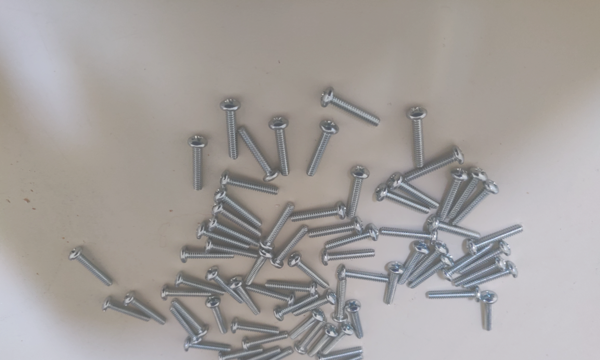longscrew: (237, 128, 281, 179), (324, 90, 382, 127), (458, 241, 512, 277), (404, 151, 468, 181), (440, 247, 493, 283), (449, 170, 487, 219), (464, 225, 524, 256), (456, 183, 497, 228), (390, 174, 440, 210), (68, 248, 111, 289), (404, 245, 447, 285), (218, 93, 243, 161), (187, 127, 212, 195), (377, 187, 431, 218), (212, 203, 262, 236), (211, 191, 260, 224), (310, 119, 336, 180), (123, 293, 169, 327), (268, 112, 292, 176), (220, 173, 281, 198), (395, 240, 428, 286), (290, 253, 329, 291), (262, 202, 294, 248), (454, 260, 506, 288), (407, 258, 452, 290), (206, 268, 243, 305), (274, 227, 304, 272), (175, 273, 225, 300), (287, 200, 345, 223), (436, 168, 462, 219), (168, 306, 201, 346), (305, 219, 362, 242), (197, 224, 249, 249), (208, 216, 261, 240), (173, 302, 209, 337), (321, 227, 378, 249), (231, 277, 262, 317), (467, 264, 518, 288), (427, 217, 482, 238), (275, 293, 321, 318), (347, 165, 368, 219), (381, 262, 406, 307), (204, 241, 257, 261), (181, 244, 234, 264), (334, 267, 389, 286), (103, 301, 148, 324), (410, 102, 426, 166), (203, 297, 229, 336), (380, 226, 439, 243), (244, 249, 271, 286), (295, 324, 326, 356), (321, 325, 353, 355), (247, 284, 293, 304), (312, 343, 366, 360), (292, 313, 326, 340), (239, 332, 292, 349), (265, 278, 315, 296), (184, 338, 229, 357), (293, 298, 334, 318), (317, 252, 378, 265), (231, 318, 279, 334), (332, 280, 350, 321), (310, 330, 336, 358), (479, 288, 495, 331), (425, 289, 481, 301), (347, 298, 362, 340), (160, 289, 210, 301), (219, 347, 263, 360), (241, 349, 281, 360), (255, 350, 295, 360), (317, 355, 366, 360)
